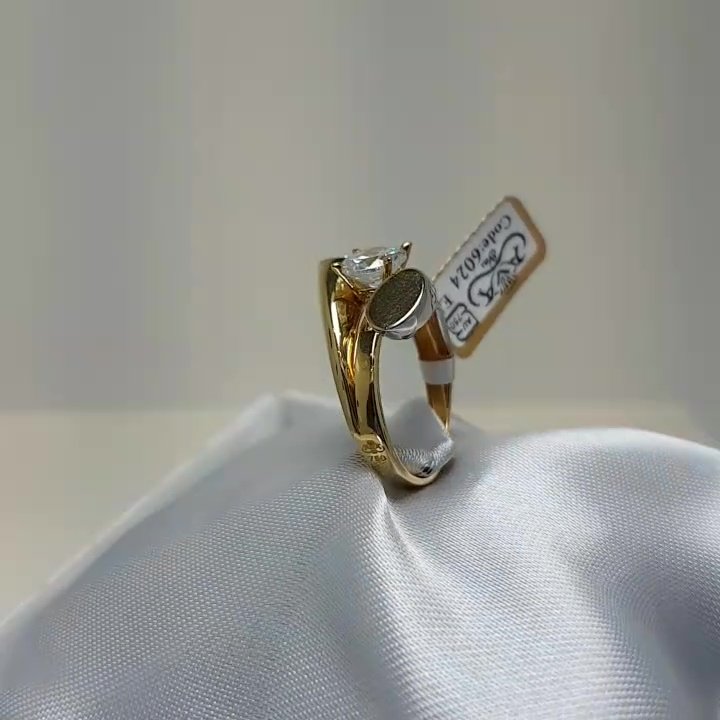Ring 7: (303, 224, 495, 489)
